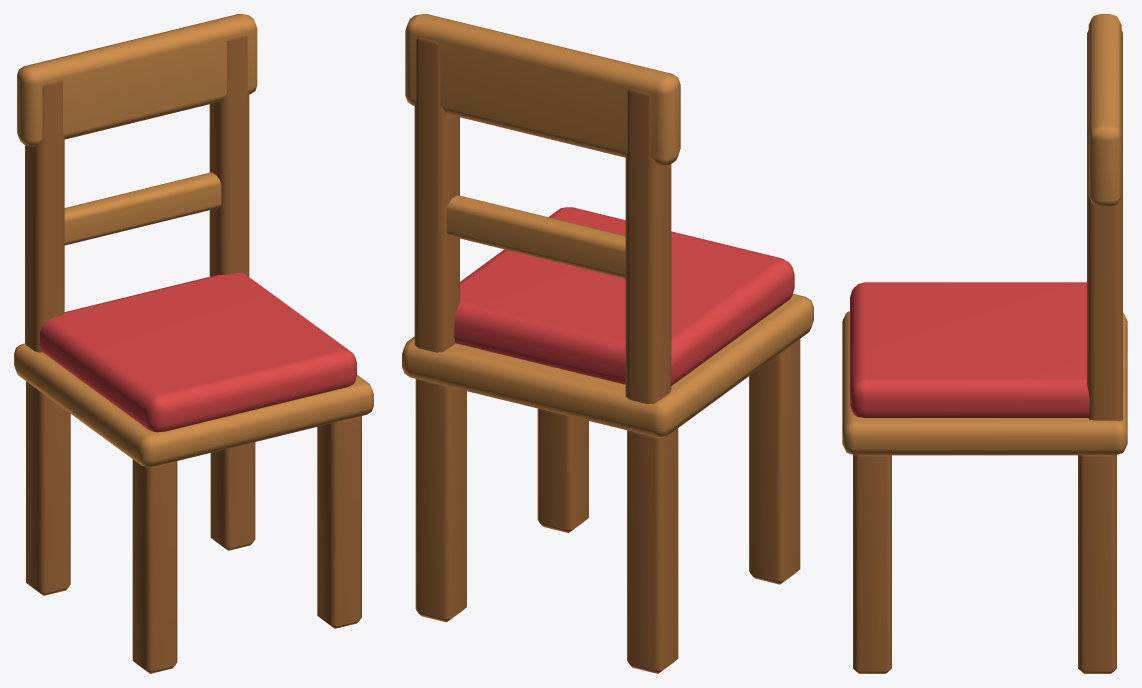
File: DiningChair.fbx
3 renders of one model, left to right at view 1: azimuth 30°, elevation 25°; view 2: azimuth 150°, elevation 25°; view 3: azimuth 270°, elevation 25°, orthographic. The views are drawn at different scales.
Visible parts, largest first — view 1: DiningChair; view 2: DiningChair; view 3: DiningChair.
Boxes of the visible parts, x1,y1,x2,y2 form: DiningChair: (14,14,373,673); DiningChair: (402,14,813,673); DiningChair: (842,14,1127,673).
Size of the model in its own units: 1.9 by 4.05 by 1.9.
1 material, 1 textured.
